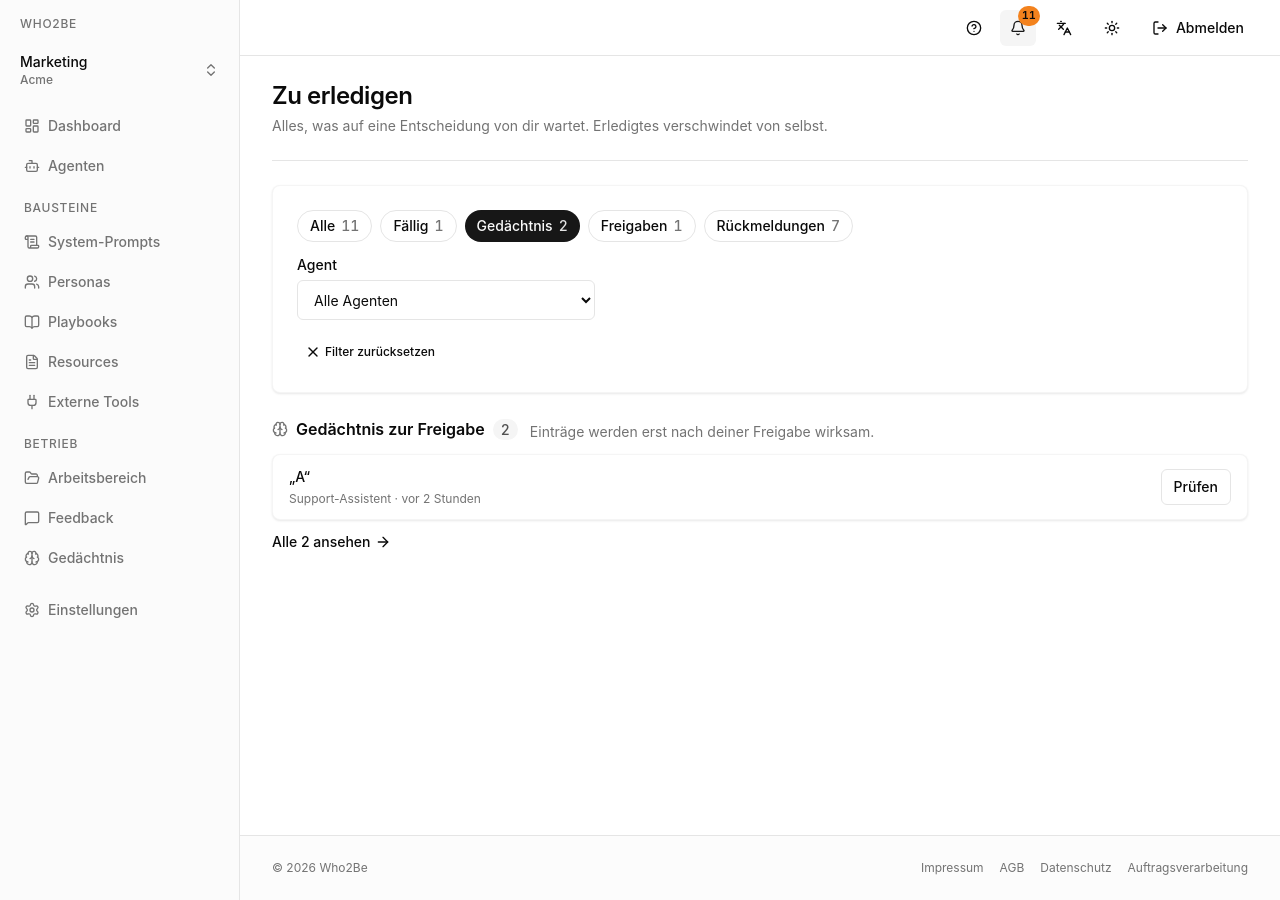
Test: InboxPage › ?kind= zeigt nur die gewählte Art; Chip-Wechsel schreibt die URL
Expected: the heading named "Gedächtnis zur Freigabe, 2" is shown, [272,417,518,441]
What coordinates should you click on to do the following:
click the button "Rückmeldungen 7"
I would click on:
 (778, 226)
Its box is [704,210,853,242].
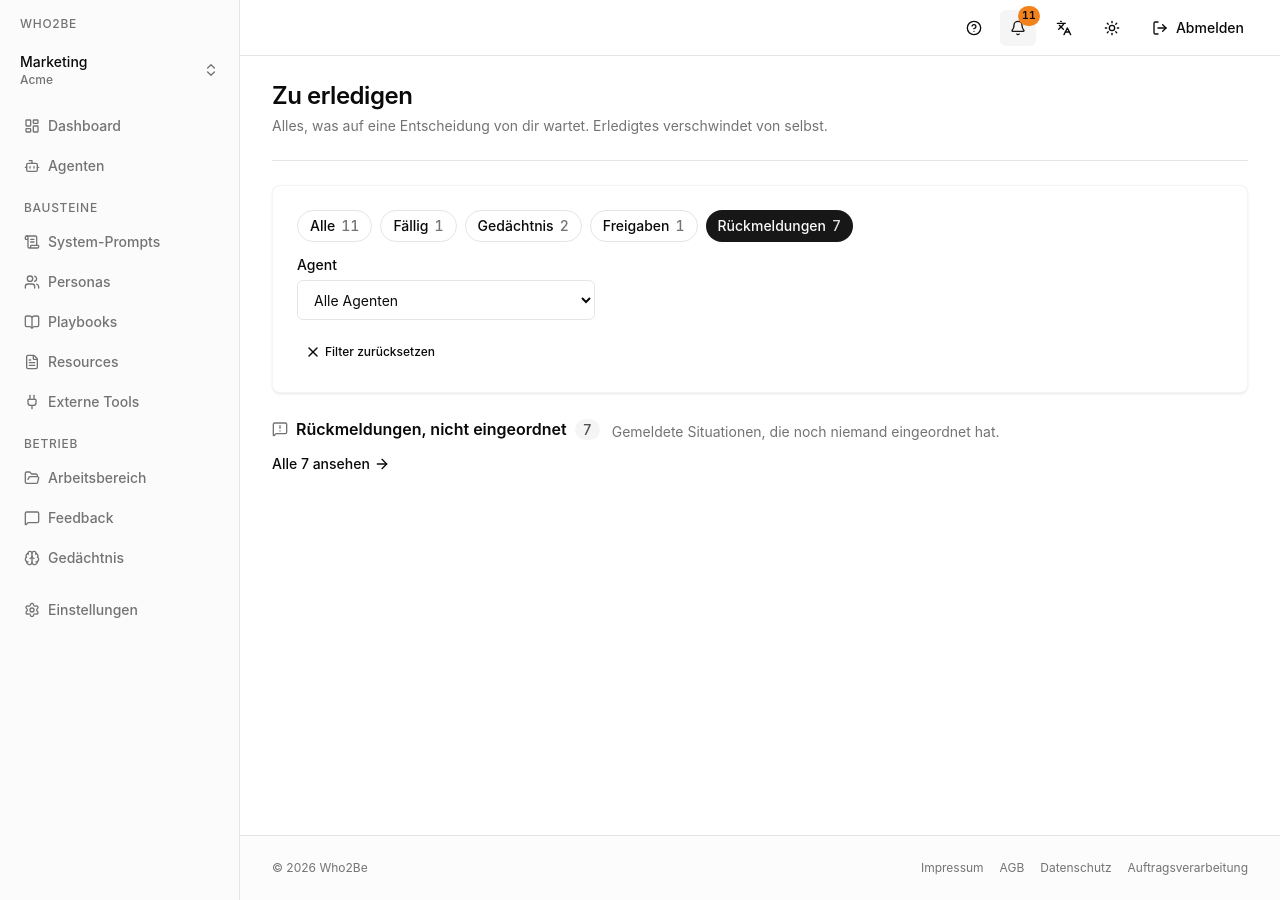
Result: the heading named "Rückmeldungen, nicht eingeordnet, 7" is shown at [272,417,600,441]
Result: the element with test id "inbox-section-memory" is gone
